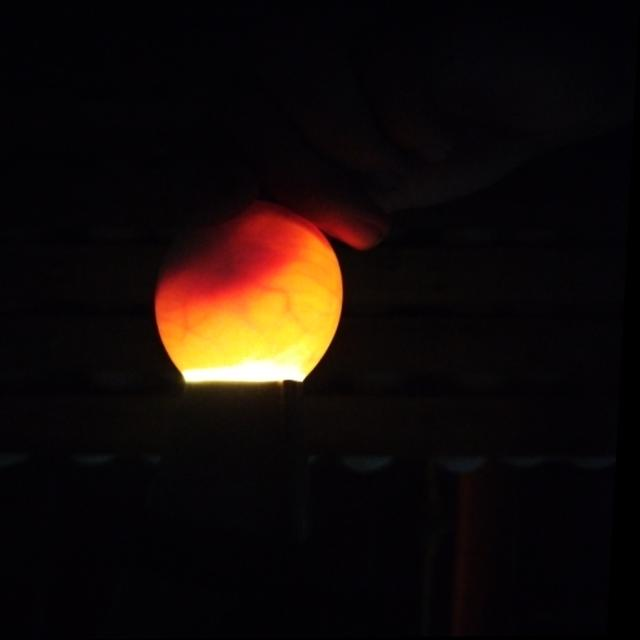Embriao: (158, 201, 333, 297)
